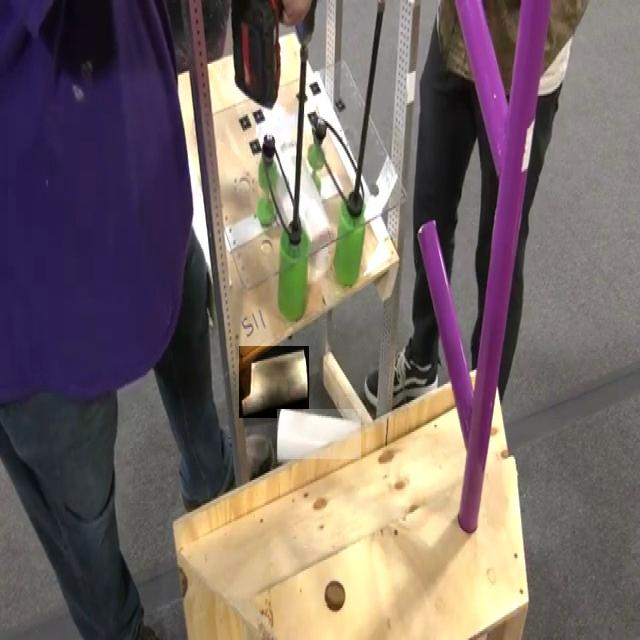Coral: (239, 346, 309, 418), (277, 409, 361, 459)
